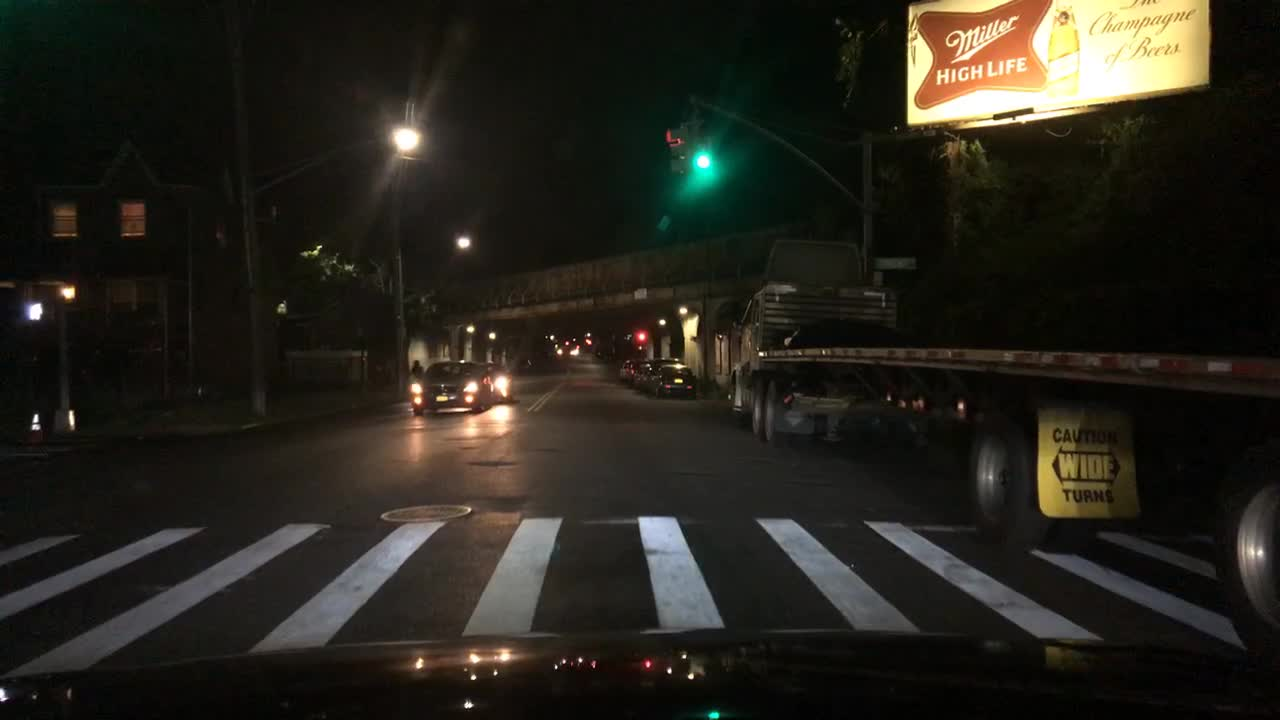car: (409, 360, 492, 416), (653, 362, 698, 402), (643, 358, 682, 399), (482, 364, 513, 401), (623, 355, 649, 381), (632, 363, 652, 391), (555, 345, 579, 357), (514, 357, 533, 372), (618, 359, 632, 377)
person: (410, 359, 423, 385)
traffic light: (690, 124, 712, 171), (666, 123, 688, 170), (637, 331, 645, 344), (590, 202, 600, 205)
traffic sign: (120, 199, 145, 239), (51, 201, 77, 239), (872, 256, 916, 271)
truck: (725, 242, 1277, 663)
